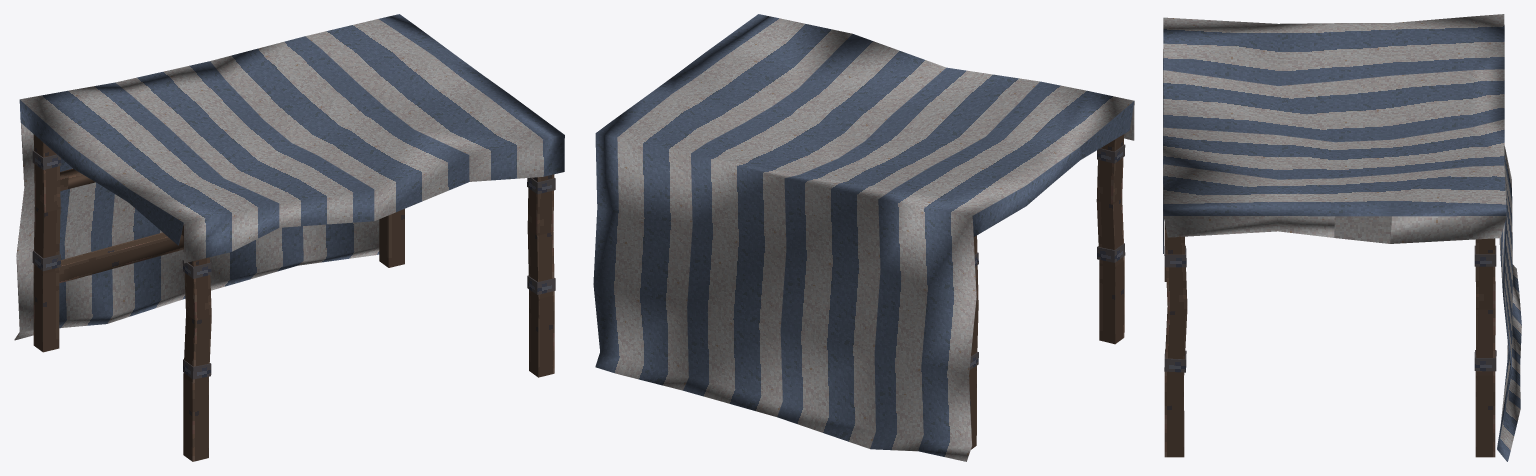
The model's file is market_stall_blue.glb.
3 renders of one model, left to right at view 1: azimuth 30°, elevation 25°; view 2: azimuth 150°, elevation 25°; view 3: azimuth 270°, elevation 25°, orthographic. The views are drawn at different scales.
Parts seen in each view (by area): view 1: market_stall_blue; view 2: market_stall_blue; view 3: market_stall_blue.
Part boxes in pixels (x1,y1,x2,y2): market_stall_blue: (14, 14, 564, 461); market_stall_blue: (593, 14, 1134, 461); market_stall_blue: (1163, 14, 1521, 461).
Size of the model in its own units: 5.53 by 3.51 by 4.33.
Materials: 2 (2 with a texture image).
